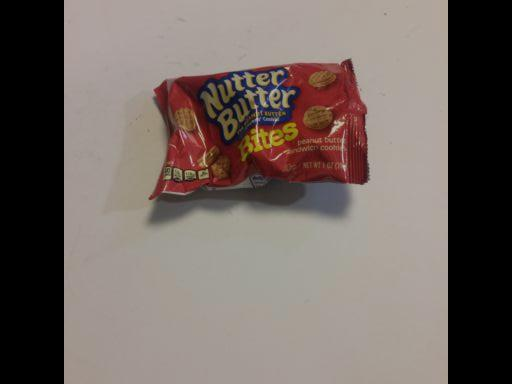trash: (146, 59, 370, 211)
